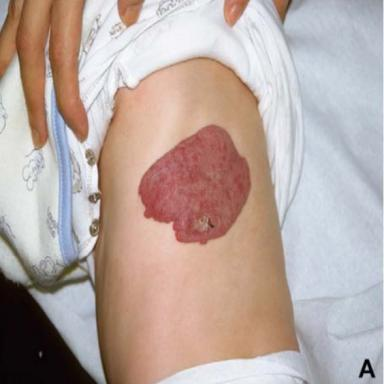Hemangiome: (138, 125, 251, 243)
